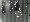person: (17, 3, 23, 15), (4, 3, 10, 14)
